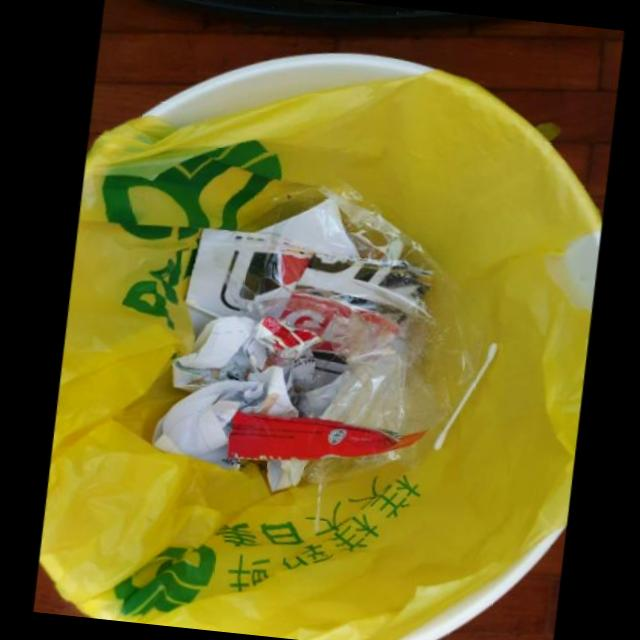bao_bi_thuc_pham: (248, 317, 314, 360)
chai_nhua: (220, 410, 420, 462)
giay: (148, 314, 305, 470), (176, 226, 237, 341), (260, 462, 304, 491)
tui_ni_long: (208, 180, 477, 483)
